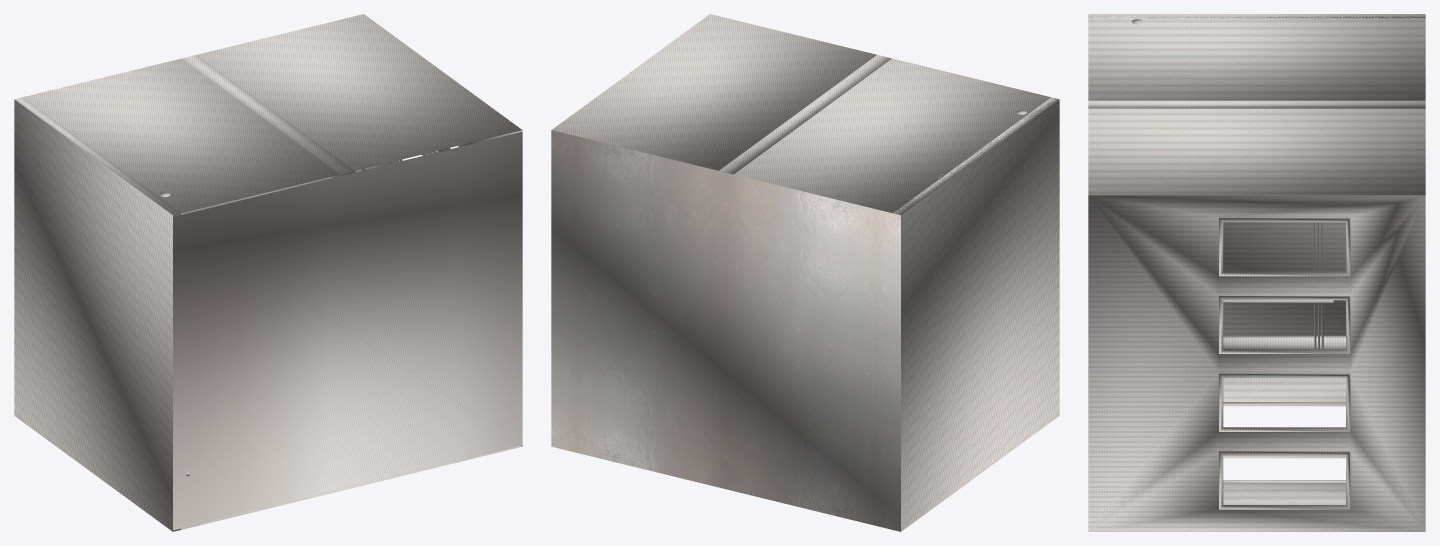
File: sala_robot_plain_complete_with_normals.obj
3 renders of one model, left to right at view 1: azimuth 30°, elevation 25°; view 2: azimuth 150°, elevation 25°; view 3: azimuth 270°, elevation 25°, orthographic. The views are drawn at different scales.
Bounding box in the file's own units: 7018 × 6084 × 5503.
